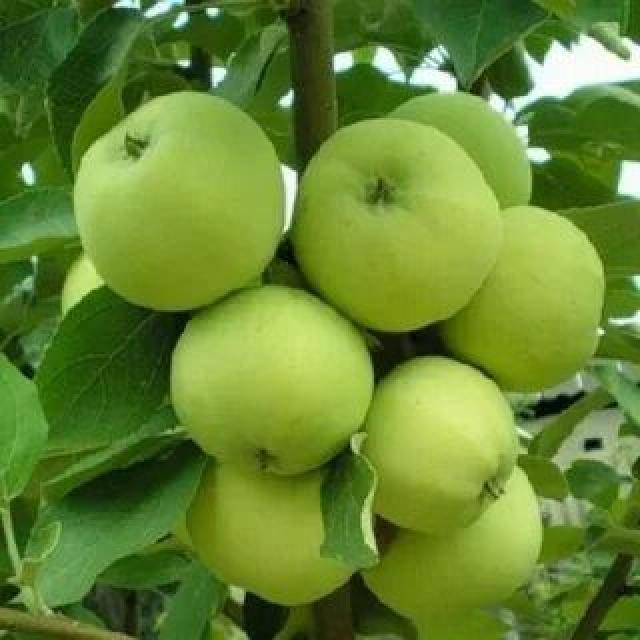Fresh Apple: (70, 92, 280, 308), (296, 128, 498, 324), (442, 196, 616, 402), (182, 290, 372, 478), (362, 348, 510, 542)
